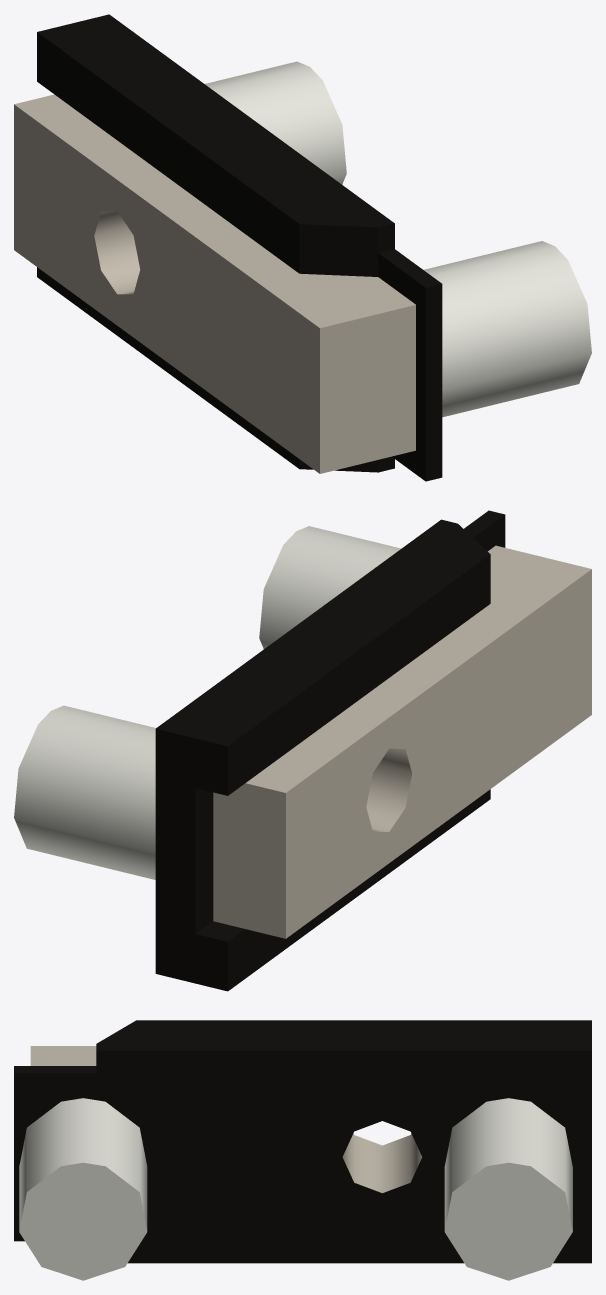
3 renders of one model, top to bottom at view 1: azimuth 30°, elevation 25°; view 2: azimuth 150°, elevation 25°; view 3: azimuth 270°, elevation 25°, orthographic. The views are drawn at different scales.
Visible parts, largest first — view 1: bau0027287819; view 2: bau0027287819; view 3: bau0027287819.
Boxes of the visible parts, <box> form: bau0027287819: <box>14,14,591,481</box>; bau0027287819: <box>14,510,591,991</box>; bau0027287819: <box>14,1020,591,1280</box>.
Bounding box in the file's own units: 20 × 17.65 × 43.48.
